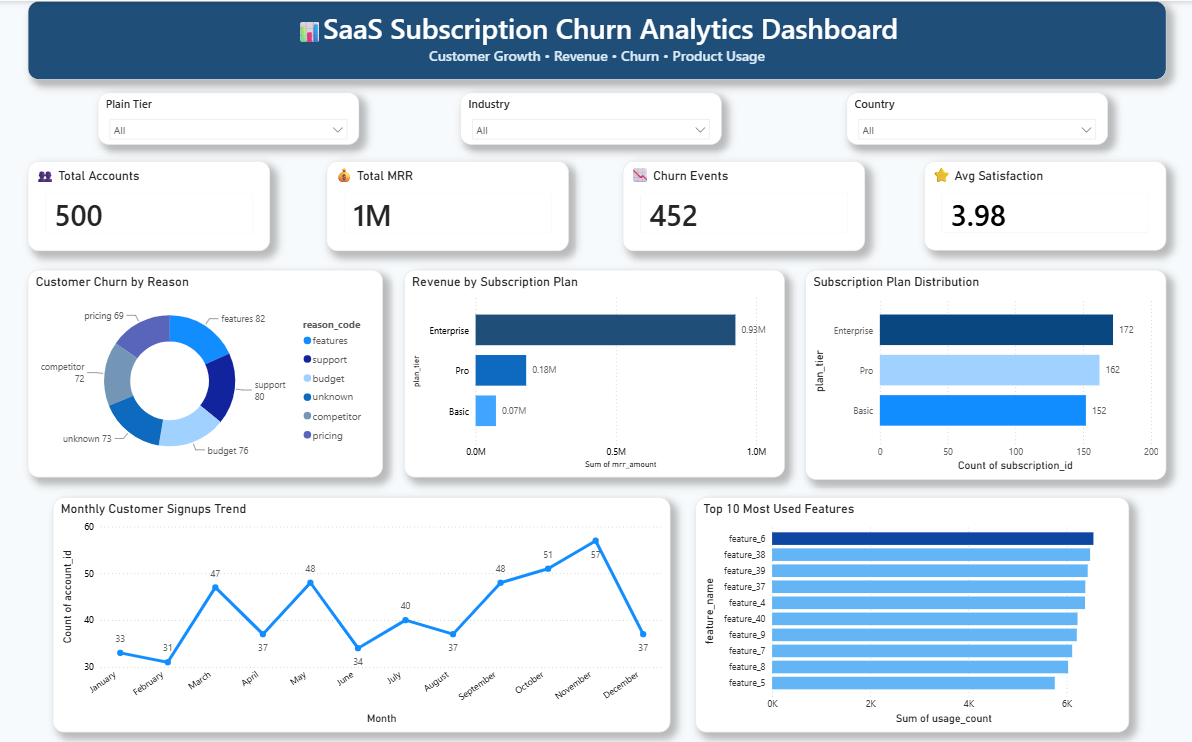

Layout of this report page (visuals, bound fields, positions):
{"tool":"powerbi","page":{"name":"Page 1","canvas":[1600,1000],"ordinal":0},"visuals":[{"type":"cardVisual","title":"👥 Total Accounts","fields":{"Data":["CountNonNull(cleaned_accounts.account_id)"]},"box":[38.5,214.5,325.1,120.6],"z":0},{"type":"cardVisual","title":"💰 Total MRR","fields":{"Data":["Sum(cleaned_subscription.mrr_amount)"]},"box":[439,214.5,325.1,120.6],"z":1000},{"type":"cardVisual","title":"📉 Churn Events","fields":{"Data":["CountNonNull(cleaned_churn.churn_event_id)"]},"box":[836.1,214.5,325.1,120.6],"z":2000},{"type":"cardVisual","title":"⭐ Avg Satisfaction","fields":{"Data":["Avg(cleaned_tickets.satisfaction_score)"]},"box":[1240,214.5,325.1,120],"z":3000},{"type":"lineChart","title":"Monthly Customer Signups Trend","fields":{"Category":["cleaned_accounts.signup_date.Variation.Date Hierarchy.Month"],"Y":["CountNonNull(cleaned_accounts.account_id)"]},"box":[72.1,665.2,827.8,315],"z":4000},{"type":"clusteredBarChart","title":"Revenue by Subscription Plan","fields":{"Category":["cleaned_subscription.plan_tier"],"Y":["Sum(cleaned_subscription.mrr_amount)"]},"box":[542.9,360.3,510,278.2],"z":5000},{"type":"donutChart","title":"Customer Churn by Reason","fields":{"Category":["cleaned_churn.reason_code"],"Y":["CountNonNull(cleaned_churn.churn_event_id)"]},"box":[38.5,360.3,475.9,278.2],"z":6000},{"type":"clusteredBarChart","title":"Top 10 Most Used Features","fields":{"Category":["cleaned_usage.feature_name"],"Y":["Sum(cleaned_usage.usage_count)"]},"box":[933.3,665.2,581.4,315],"z":7000},{"type":"clusteredBarChart","title":"Subscription Plan Distribution","fields":{"Category":["cleaned_subscription.plan_tier"],"Y":["CountNonNull(cleaned_subscription.subscription_id)"]},"box":[1080.8,360.3,484.3,281.5],"z":8000},{"type":"slicer","title":"Plain Tier","fields":{"Values":["cleaned_subscription.plan_tier"]},"box":[132.5,122.3,350,70],"z":9000},{"type":"slicer","title":"Industry","fields":{"Values":["cleaned_accounts.industry"]},"box":[618.2,122.3,350,70],"z":10000},{"type":"slicer","title":"Country","fields":{"Values":["cleaned_accounts.country"]},"box":[1136.1,122.3,350,70.4],"z":11000},{"type":"textbox","box":[38.5,0,1526.5,105.6],"z":12000}]}

Visuals, with their boxes in screenshot pixels (x1, y1, x2, y2), scaled from the page's 1600x1000 canvas onto the 1192x742 screenshot:
"👥 Total Accounts" cardVisual: crop(29, 159, 271, 249)
"💰 Total MRR" cardVisual: crop(327, 159, 569, 249)
"📉 Churn Events" cardVisual: crop(623, 159, 865, 249)
"⭐ Avg Satisfaction" cardVisual: crop(924, 159, 1166, 248)
"Monthly Customer Signups Trend" lineChart: crop(54, 494, 670, 727)
"Revenue by Subscription Plan" clusteredBarChart: crop(404, 267, 784, 474)
"Customer Churn by Reason" donutChart: crop(29, 267, 383, 474)
"Top 10 Most Used Features" clusteredBarChart: crop(695, 494, 1128, 727)
"Subscription Plan Distribution" clusteredBarChart: crop(805, 267, 1166, 476)
"Plain Tier" slicer: crop(99, 91, 359, 143)
"Industry" slicer: crop(461, 91, 721, 143)
"Country" slicer: crop(846, 91, 1107, 143)
textbox: crop(29, 0, 1166, 78)
